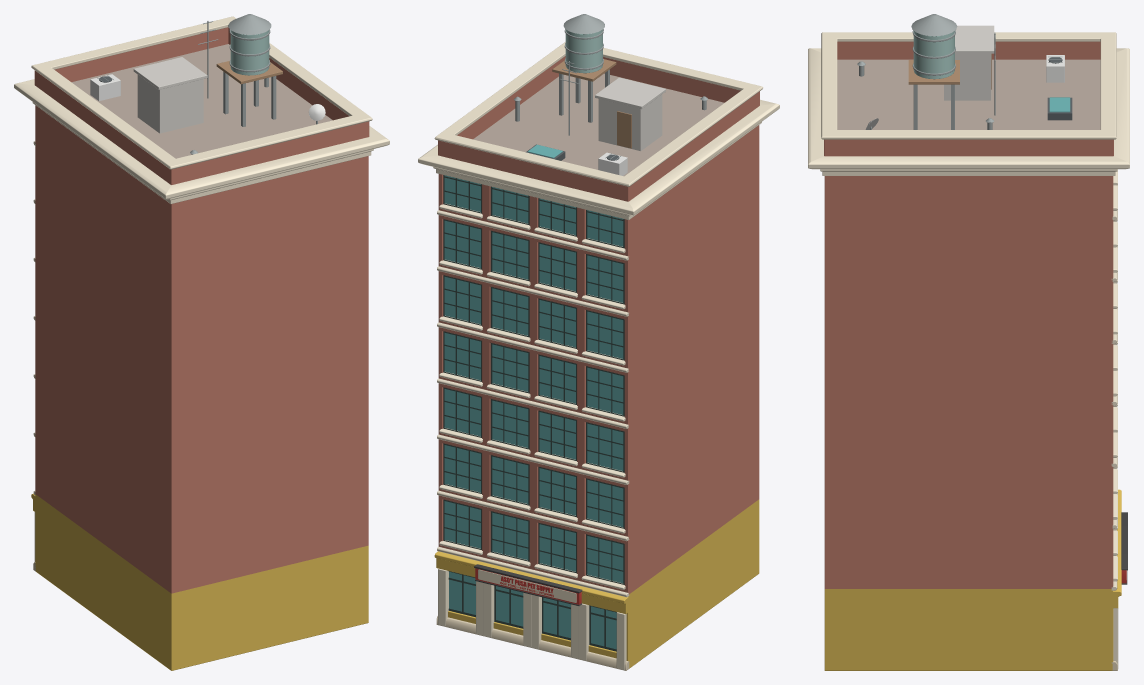
File: far_loft_21.glb
The picture shows the model from 3 angles, left to right: view 1: azimuth 30°, elevation 25°; view 2: azimuth 150°, elevation 25°; view 3: azimuth 270°, elevation 25°; orthographic projection. The views are drawn at different scales.
Visible parts, largest first — view 1: shell, trim, props; view 2: shell, trim, frames, props, sign_aso_t_pusa_pet_supply; view 3: shell, trim, props, sign_aso_t_pusa_pet_supply.
Boxes of the visible parts, x1=… form: shell: x1=35, y1=44, x2=368, y2=670; trim: x1=14, y1=16, x2=389, y2=571; props: x1=90, y1=14, x2=325, y2=154; shell: x1=438, y1=73, x2=759, y2=668; trim: x1=418, y1=42, x2=779, y2=670; frames: x1=443, y1=175, x2=624, y2=651; props: x1=514, y1=14, x2=707, y2=175; sign_aso_t_pusa_pet_supply: x1=474, y1=564, x2=582, y2=605; shell: x1=824, y1=59, x2=1113, y2=670; trim: x1=808, y1=32, x2=1129, y2=670; props: x1=857, y1=14, x2=1072, y2=129; sign_aso_t_pusa_pet_supply: x1=1121, y1=512, x2=1127, y2=584.
Size of the model in its own units: 13.3 by 33.2 by 15.6.
